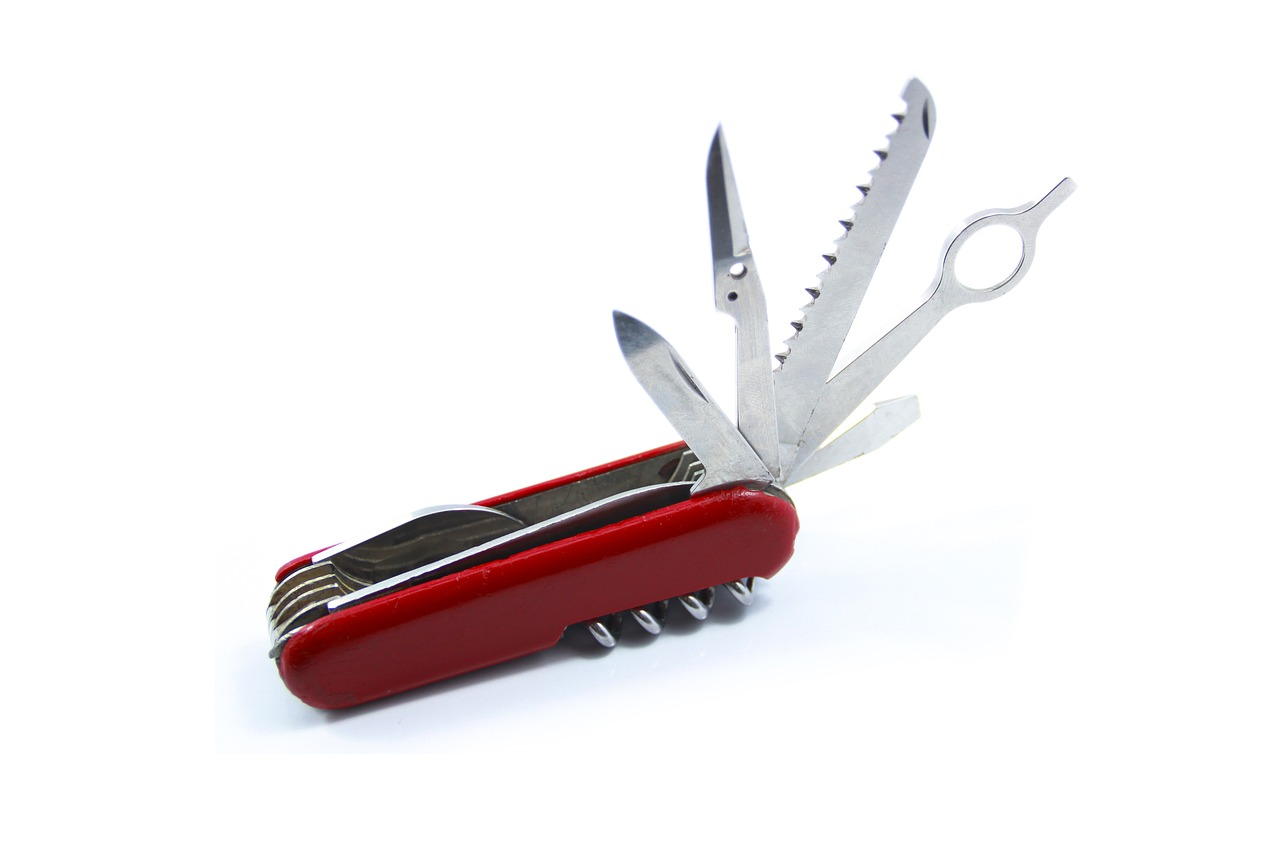knife: (763, 77, 952, 478), (606, 303, 781, 501), (695, 116, 785, 479), (785, 386, 928, 489)
